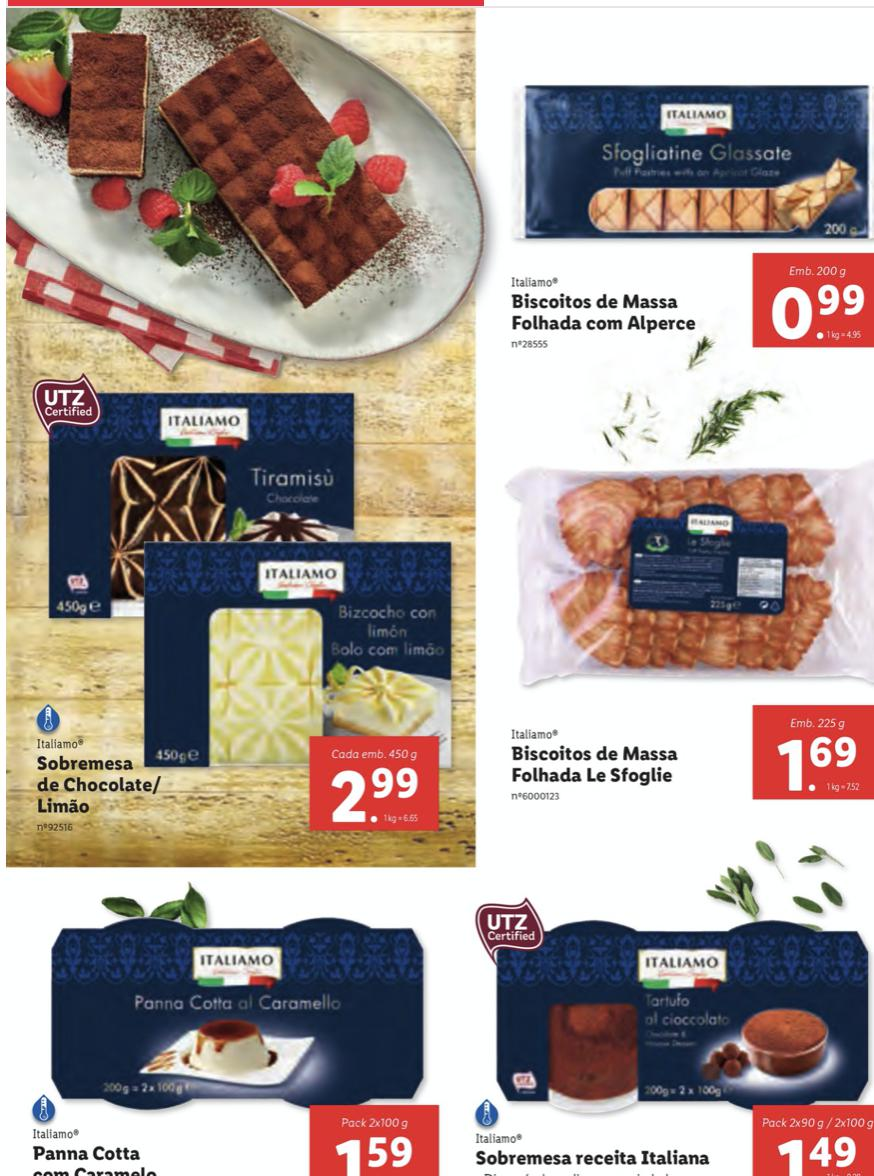name: (509, 290, 702, 336), (31, 754, 172, 816), (509, 740, 682, 790), (472, 1142, 714, 1169), (31, 1145, 143, 1165)
price: (769, 277, 864, 345), (325, 768, 429, 829), (773, 729, 861, 796), (328, 1129, 416, 1176), (779, 1135, 856, 1176)
product: (21, 364, 463, 835), (489, 454, 873, 811), (453, 845, 867, 1171), (3, 900, 445, 1172), (493, 74, 861, 351)
